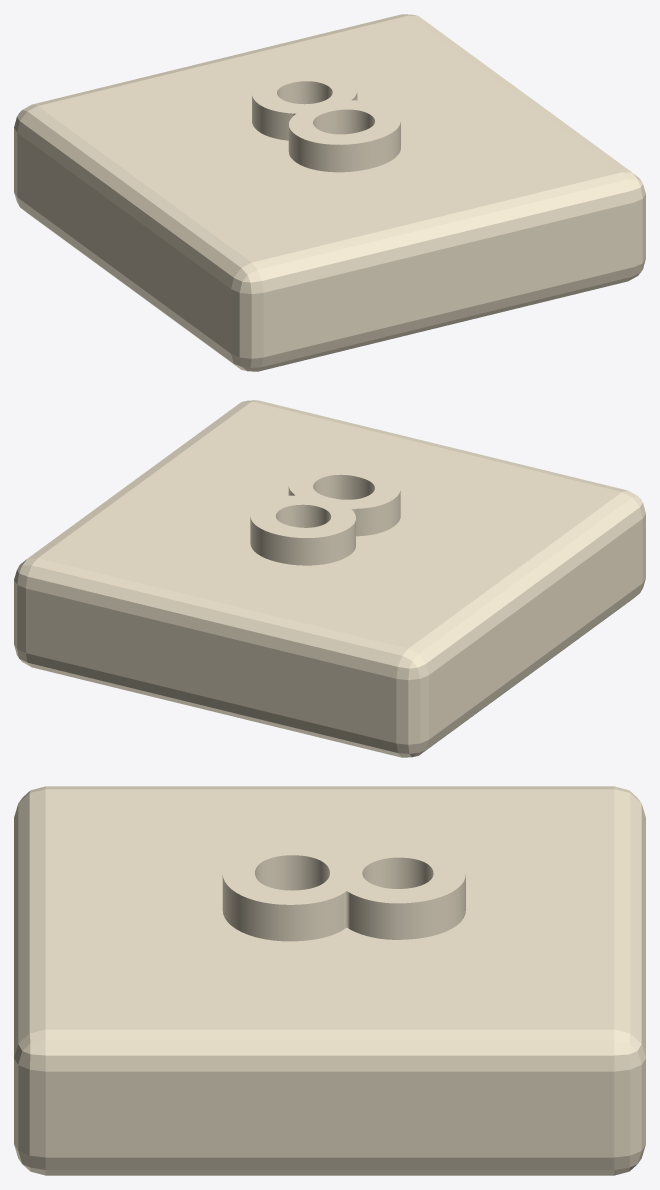
The model's file is Tile_8.fbx.
The picture shows the model from 3 angles, top to bottom: view 1: azimuth 30°, elevation 25°; view 2: azimuth 150°, elevation 25°; view 3: azimuth 270°, elevation 25°; orthographic projection. The views are drawn at different scales.
Visible parts, largest first — view 1: Tile_8; view 2: Tile_8; view 3: Tile_8.
Part boxes in pixels (x1,y1,x2,y2): Tile_8: [14, 14, 645, 371]; Tile_8: [14, 400, 645, 757]; Tile_8: [14, 786, 645, 1175].
Size of the model in its own units: 80 by 25.1 by 80.
